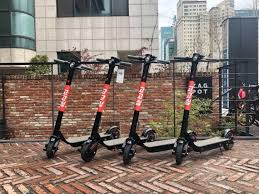kick_board: (175, 53, 234, 164)
kick_handler: (174, 52, 219, 64), (54, 58, 92, 70), (97, 55, 131, 68), (129, 55, 170, 64)
kick_neck: (56, 73, 73, 129), (181, 72, 196, 133)
kick_wheel: (81, 140, 96, 160), (174, 142, 186, 164), (123, 144, 136, 163), (46, 137, 59, 155), (224, 130, 234, 149), (143, 129, 156, 141), (111, 127, 120, 139)
